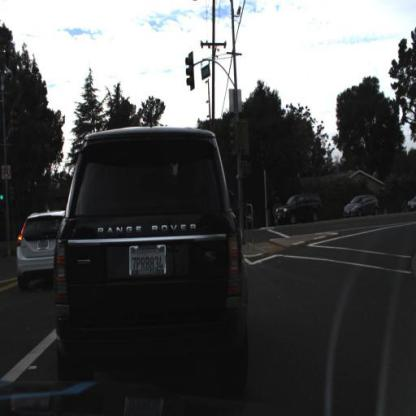car: (55, 125, 244, 370), (15, 206, 72, 284), (275, 189, 324, 227), (342, 193, 381, 220), (408, 192, 416, 213)
trafficLight-Green: (1, 187, 6, 207)
